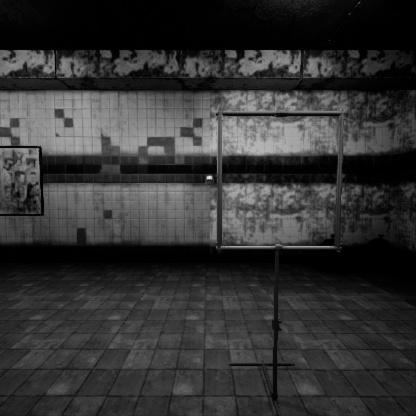gate: (217, 163, 355, 305)
